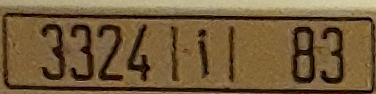2: (95, 23, 125, 82)
3: (39, 23, 66, 81), (319, 25, 345, 85), (69, 22, 95, 81)
4: (125, 23, 152, 82)
8: (291, 25, 317, 84)
a: (195, 27, 211, 80)
